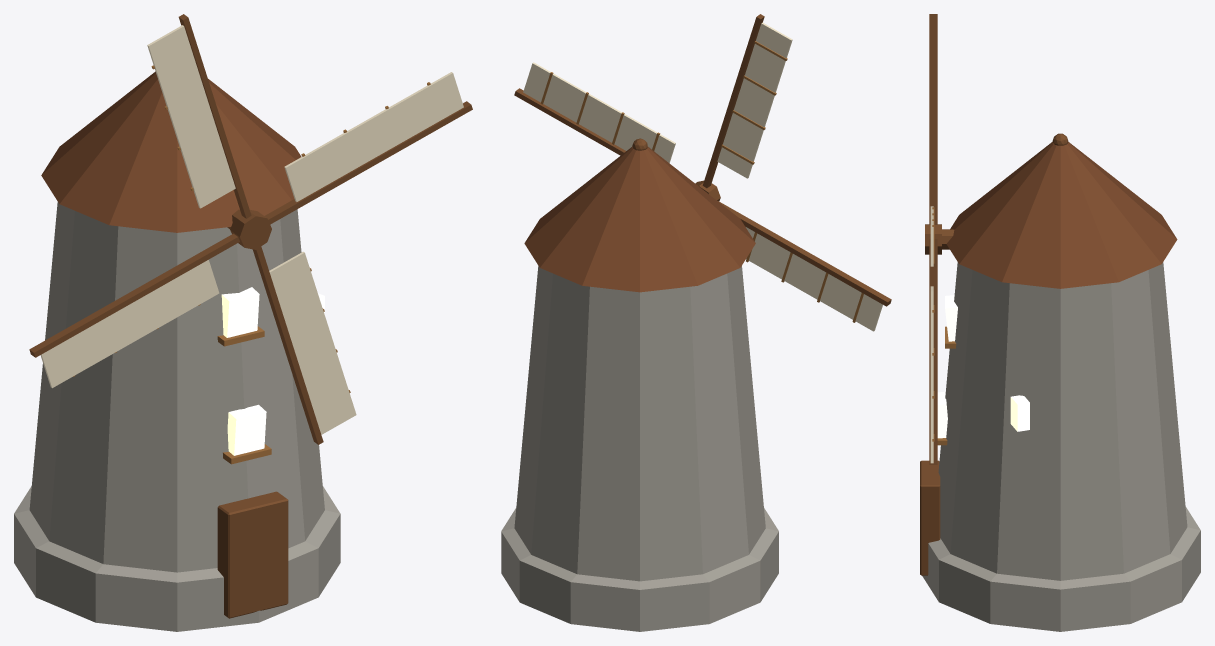
File: vil_windmill_v01.glb
The picture shows the model from 3 angles, left to right: view 1: azimuth 30°, elevation 25°; view 2: azimuth 150°, elevation 25°; view 3: azimuth 270°, elevation 25°; orthographic projection. The views are drawn at different scales.
Parts seen in each view (by area): view 1: windmill, blades; view 2: windmill, blades; view 3: windmill, blades.
Boxes of the visible parts, box(x1,y1,x2,y2) form: windmill: box(14, 71, 340, 631); blades: box(29, 14, 472, 444); windmill: box(501, 138, 778, 631); blades: box(514, 14, 891, 331); windmill: box(920, 133, 1200, 631); blades: box(925, 14, 941, 464).
Bounding box in the file's own units: 6.52 × 8.76 × 4.2.
